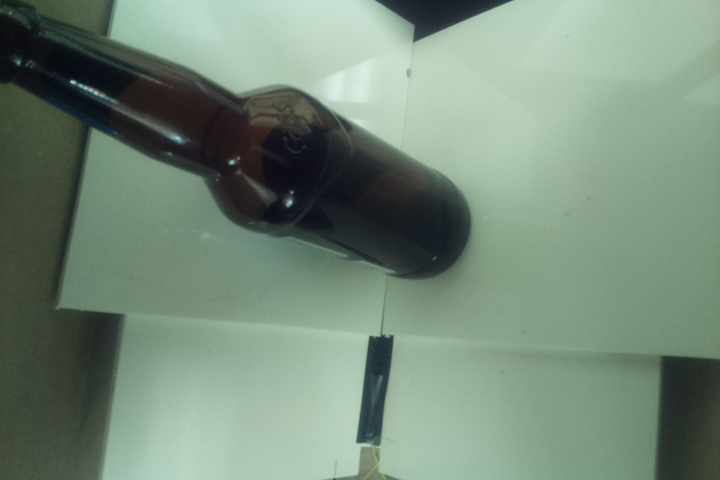makju: (1, 1, 472, 283)
